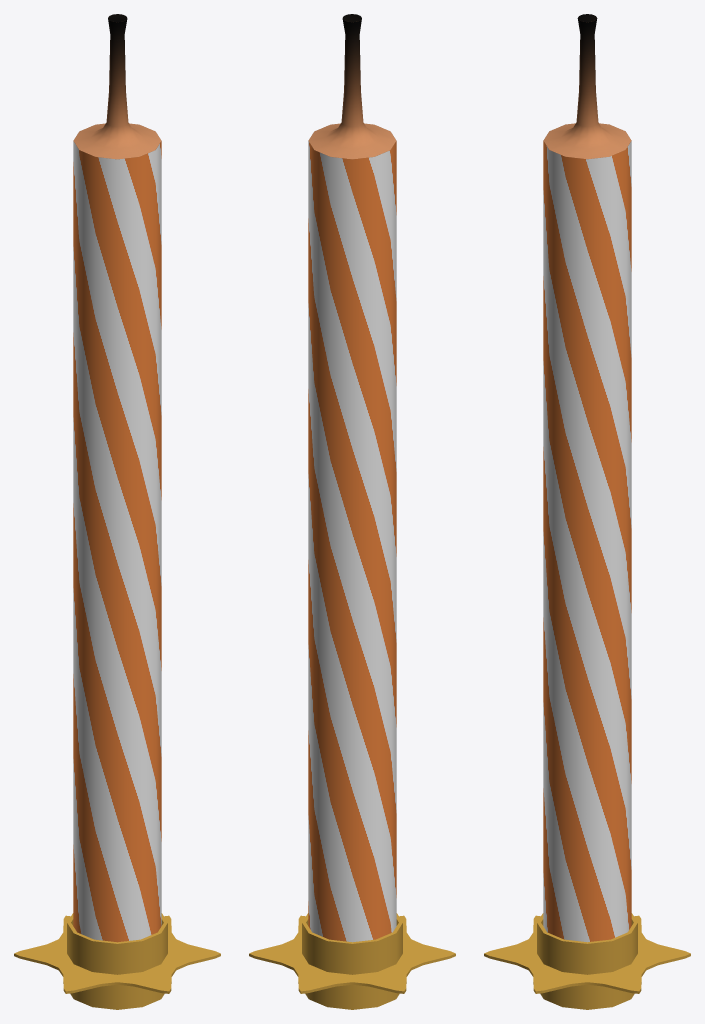
Rendered from Candle_Orange.fbx.
3 views of the same model, side by side, from view 1: azimuth 30°, elevation 25°; view 2: azimuth 150°, elevation 25°; view 3: azimuth 270°, elevation 25° (orthographic).
Parts seen in each view (by area): view 1: Candle_Orange, Candle_Holder_Orange; view 2: Candle_Orange, Candle_Holder_Orange; view 3: Candle_Orange, Candle_Holder_Orange.
Part boxes in pixels (box(x1,y1,x2,y2)): Candle_Orange: box(73, 14, 161, 942); Candle_Holder_Orange: box(14, 913, 220, 1009); Candle_Orange: box(308, 14, 396, 942); Candle_Holder_Orange: box(249, 913, 455, 1009); Candle_Orange: box(543, 14, 631, 942); Candle_Holder_Orange: box(484, 913, 690, 1009).
Size of the model in its own units: 1.64 by 9.81 by 1.9.
3 materials, 2 textured.
